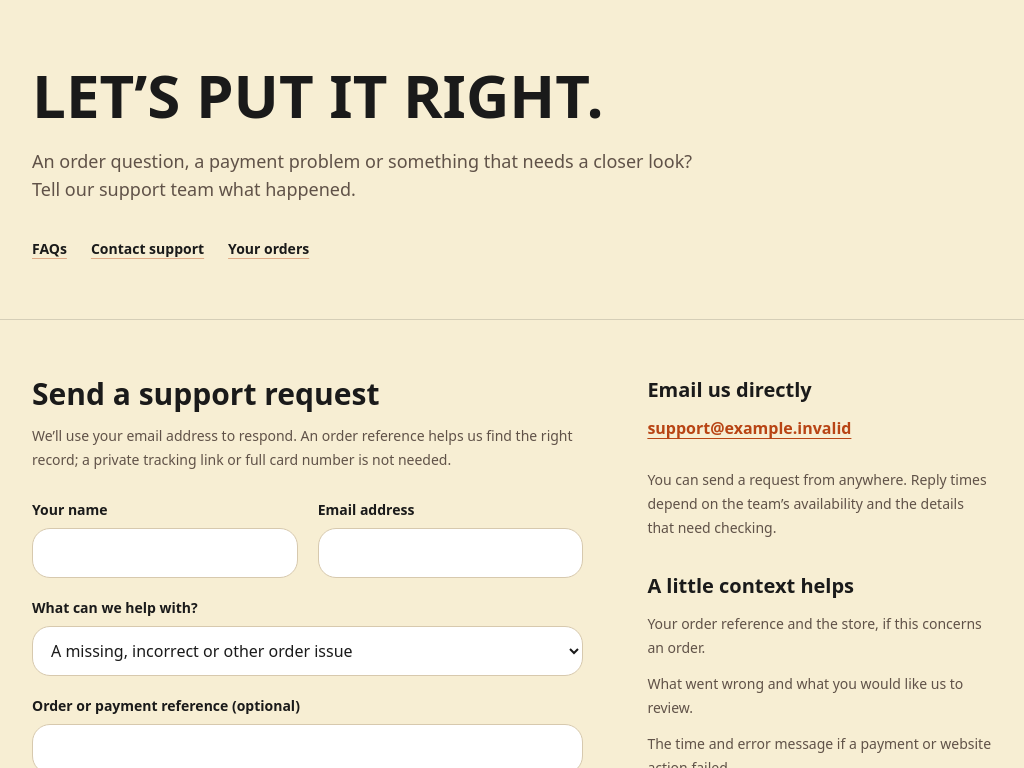
Test: Support form feedback and accessibility › retains entered details on failure and reuses the same request ID when retrying
Type "Synthetic Customer" into the field labelled "Your name" at (165, 553), box x1=32 y1=528 x2=298 y2=578
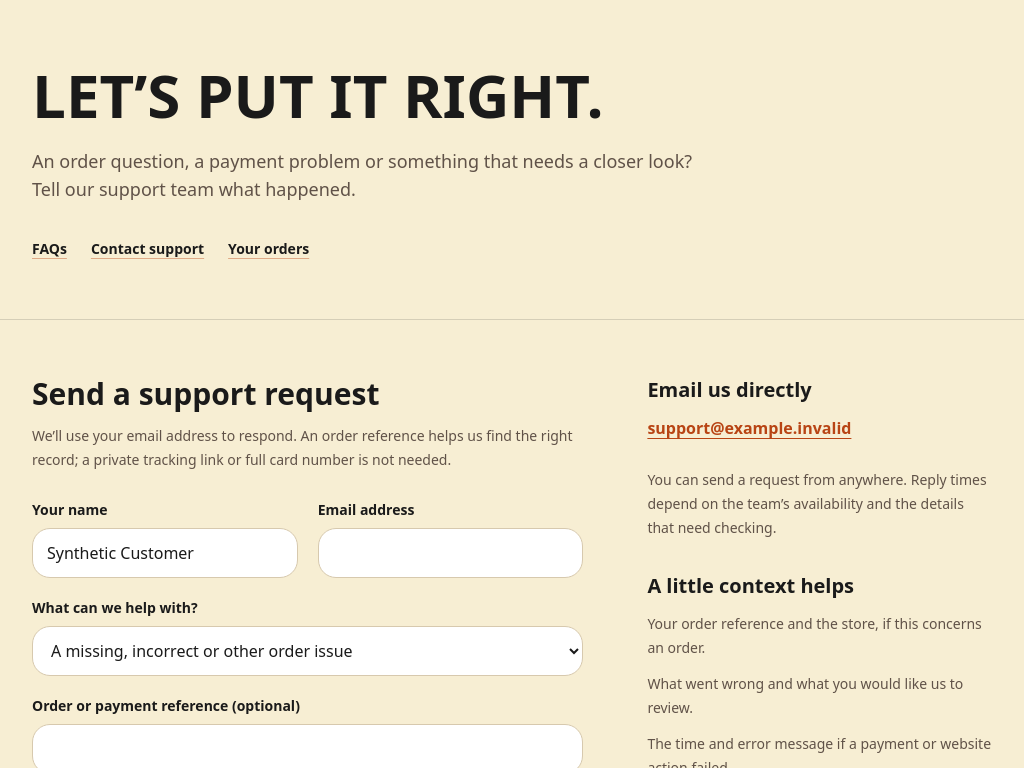
Type "synthetic@example.invalid" into the field labelled "Email address" at (451, 553), box x1=318 y1=528 x2=583 y2=578
(page scrolled)
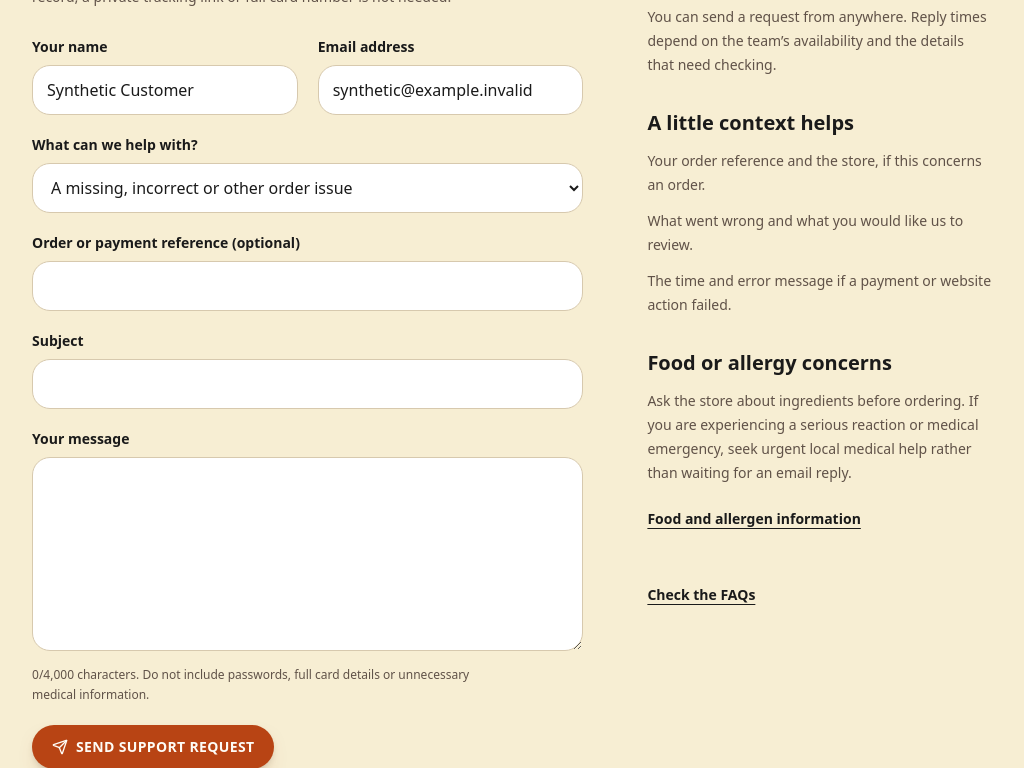
Type "A synthetic support question" into the field labelled "Subject" at (308, 384), box x1=32 y1=359 x2=583 y2=409
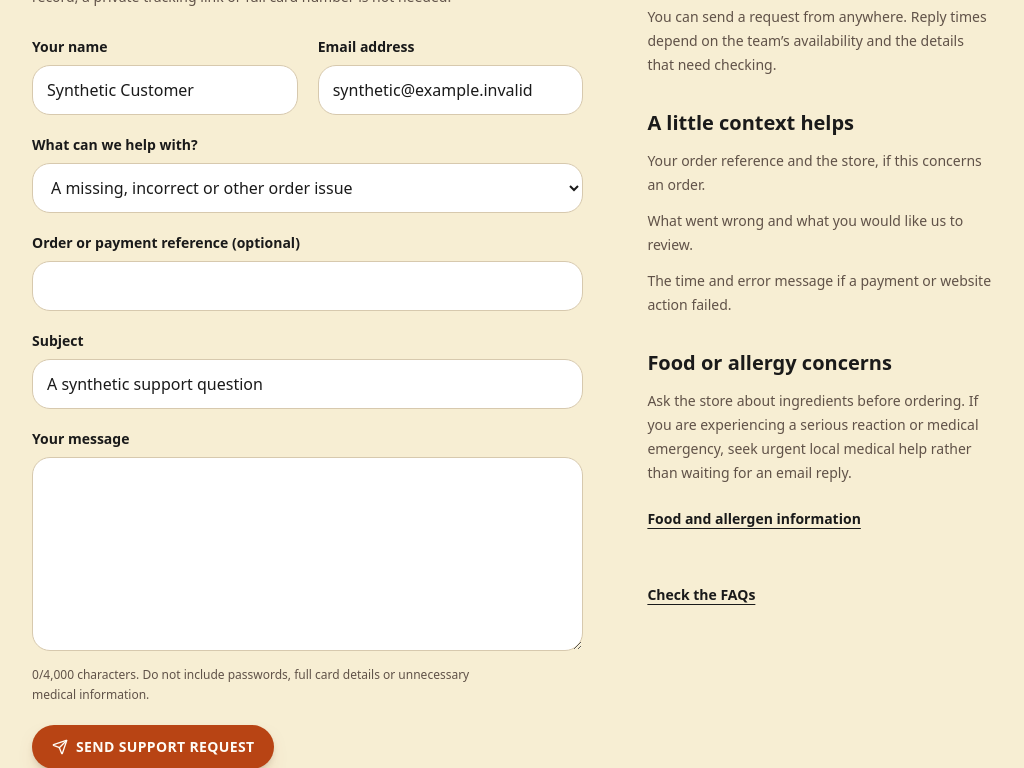
Type "Please review this harmless synthetic support question." into the text box labelled "Your message" at (308, 554), box x1=32 y1=457 x2=583 y2=651
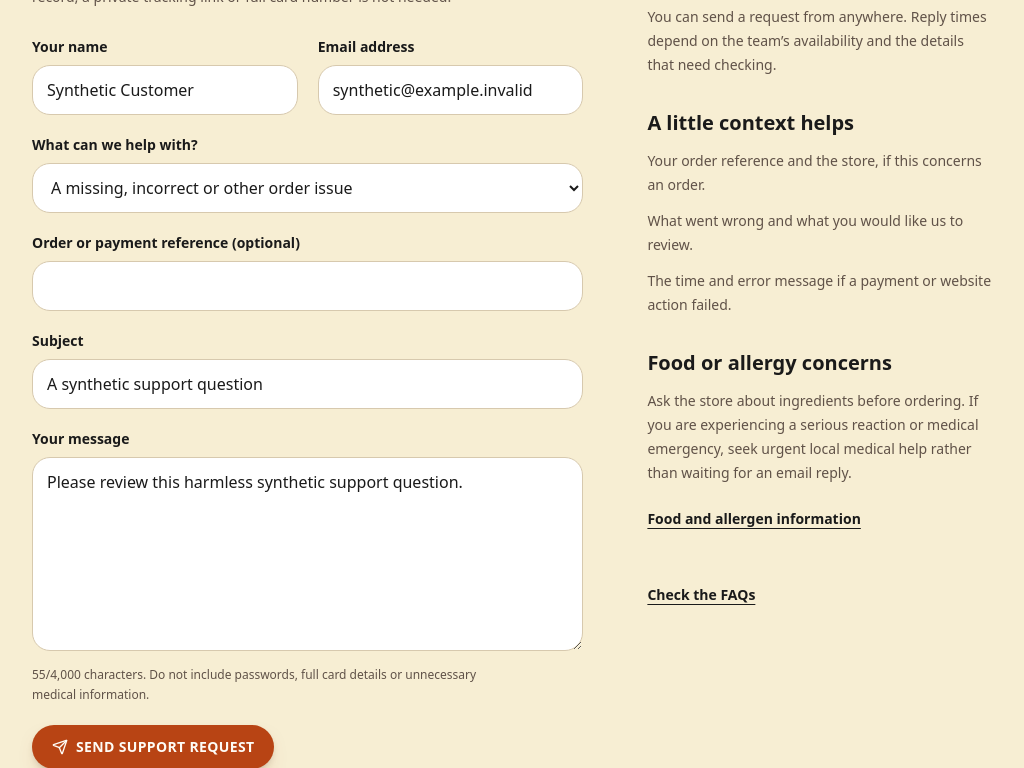
Click the button "Send support request" at (153, 747), box x1=32 y1=725 x2=274 y2=767
(page scrolled)
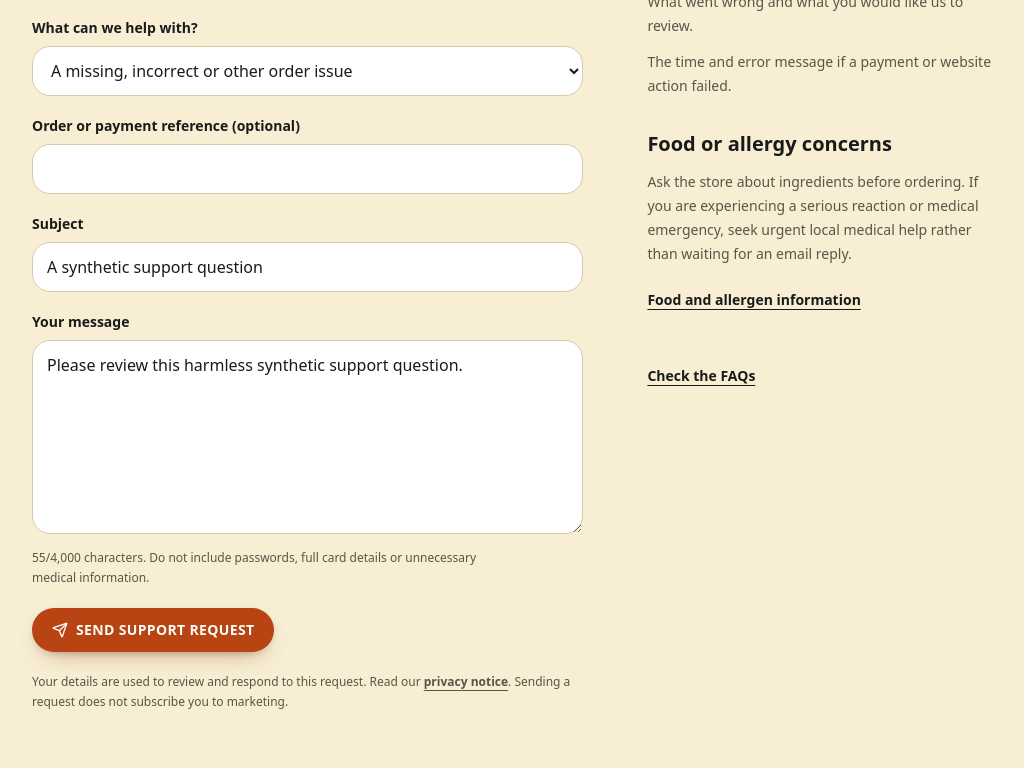
Click the button "Send support request" at (153, 630), box x1=32 y1=608 x2=274 y2=652
(page scrolled)
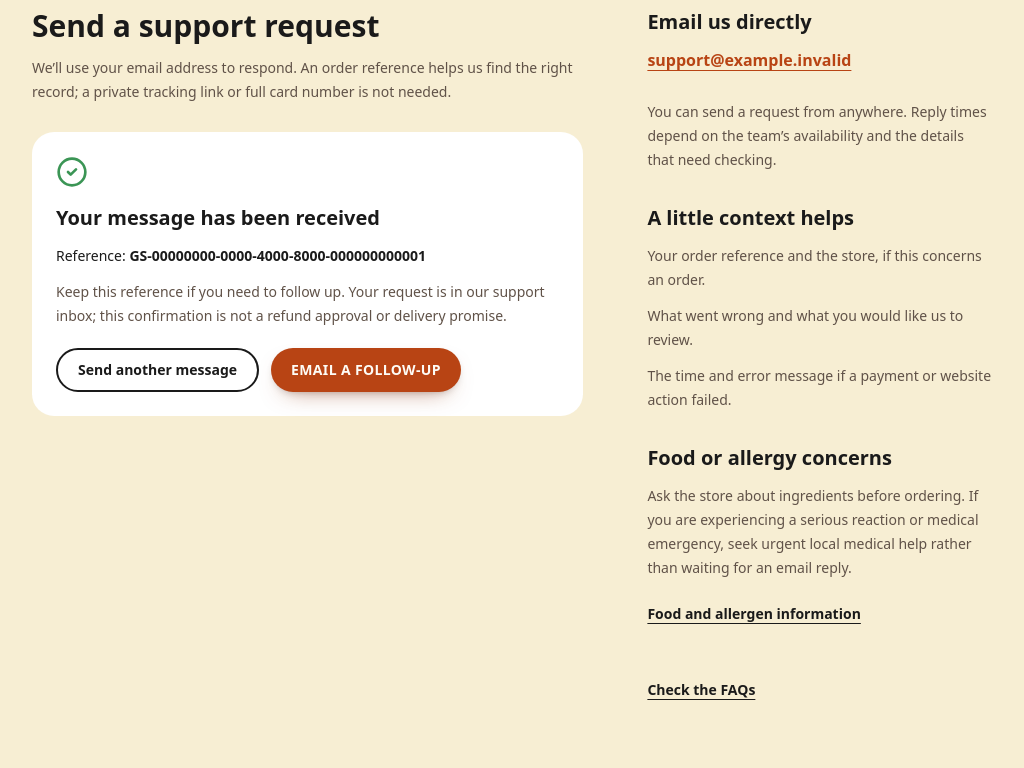
Expected: the message is shown, x1=32 y1=132 x2=583 y2=416
